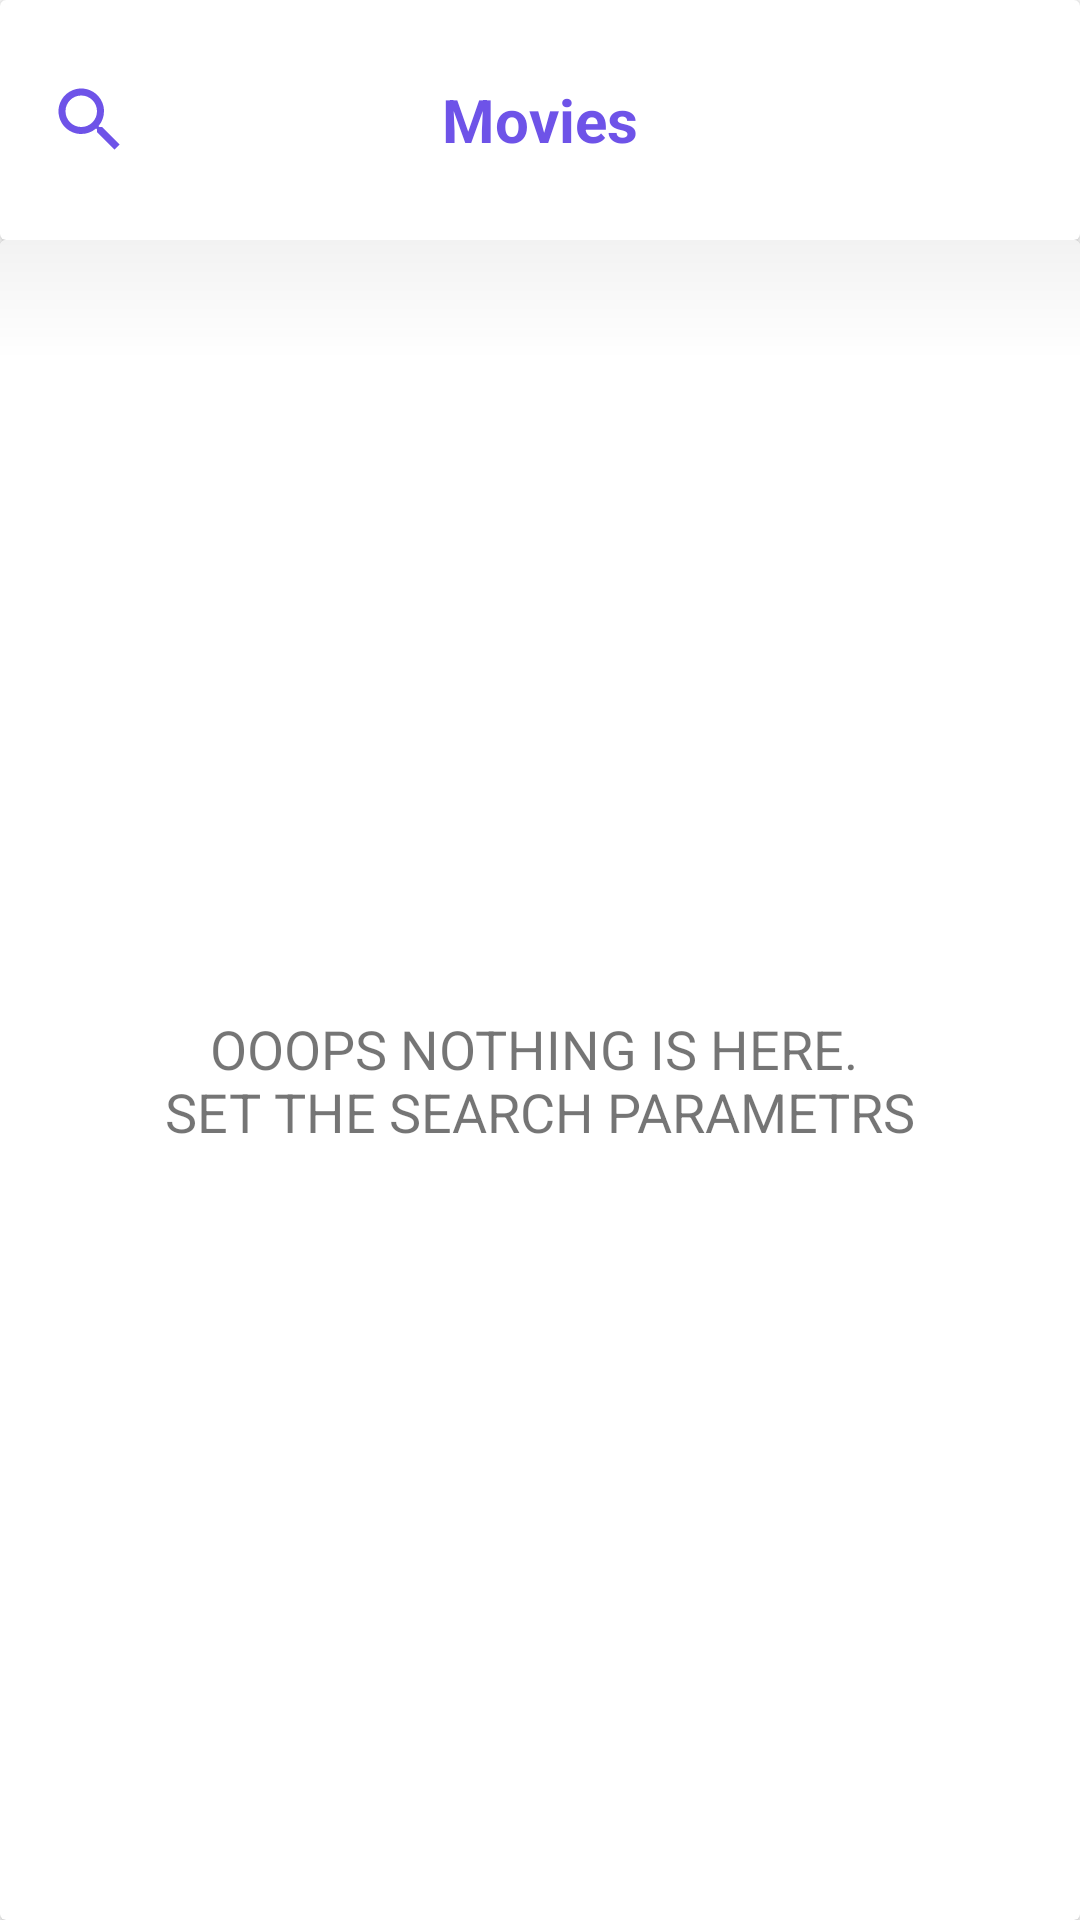

Icon bounding boxes for this 1080×1920 phone screenshot, format (x1=x1, y1=y1, x2=x2, y2=y2):
search: (x1=58, y1=88, x2=120, y2=150)
